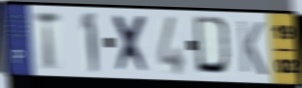1: (79, 11, 101, 74)
4: (157, 13, 187, 77)
D: (192, 14, 235, 79)
K: (235, 18, 268, 78)
T: (33, 10, 62, 72)
X: (110, 13, 153, 76)
